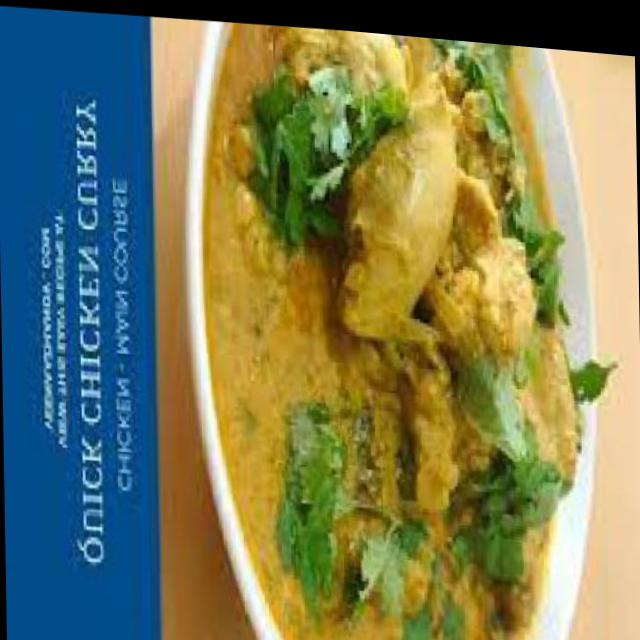CHICKEN CURRY: (200, 27, 578, 640)
